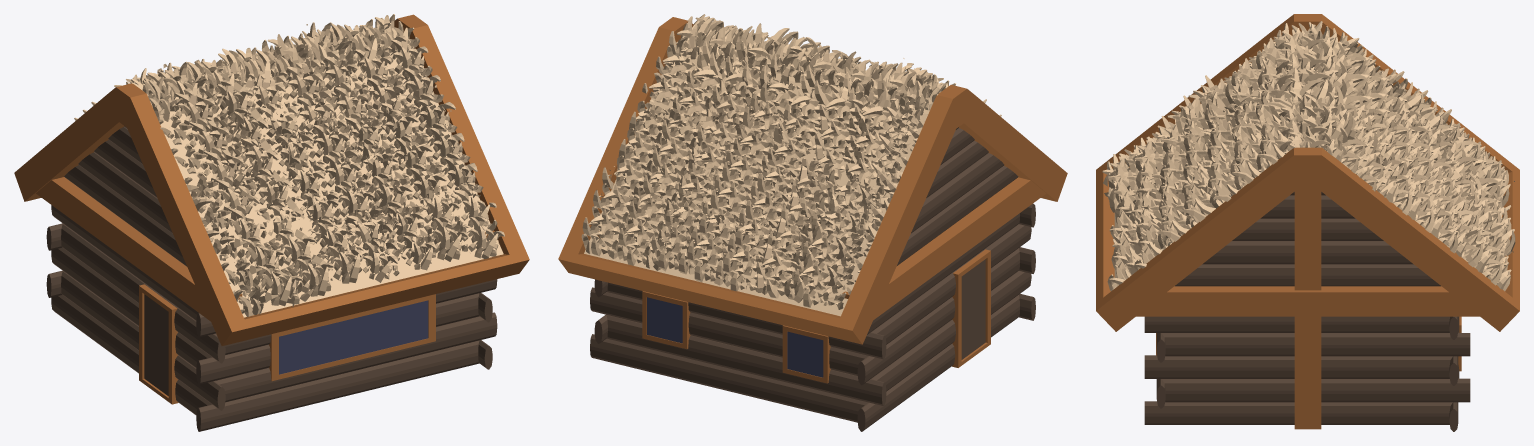
File: DefaultHouse.fbx
The picture shows the model from 3 angles, left to right: view 1: azimuth 30°, elevation 25°; view 2: azimuth 150°, elevation 25°; view 3: azimuth 270°, elevation 25°; orthographic projection. The views are drawn at different scales.
Parts seen in each view (by area): view 1: WoodHouse; view 2: WoodHouse; view 3: WoodHouse.
Part boxes in pixels (left/top/right/bottom): WoodHouse: left=14, top=14, right=529, bottom=431; WoodHouse: left=558, top=14, right=1067, bottom=431; WoodHouse: left=1096, top=14, right=1519, bottom=431.
Bounding box in the file's own units: 1315 × 1256 × 1667.
